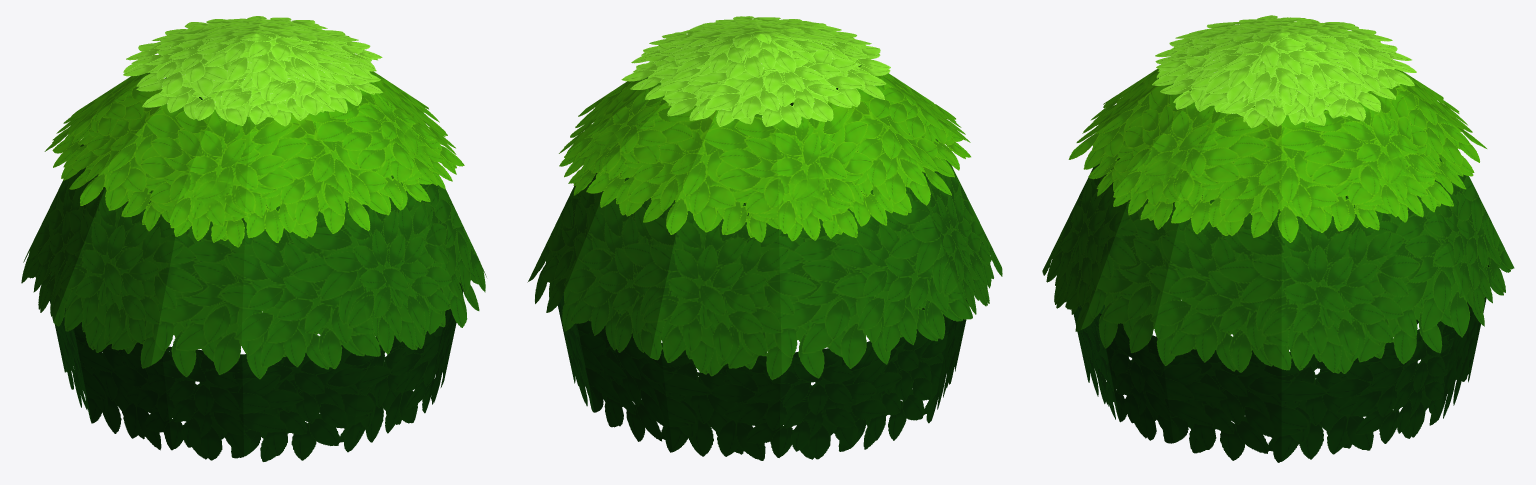
The model's file is Bush.fbx.
The picture shows the model from 3 angles, left to right: view 1: azimuth 30°, elevation 25°; view 2: azimuth 150°, elevation 25°; view 3: azimuth 270°, elevation 25°; orthographic projection.
Visible parts, largest first — view 1: Arbusto; view 2: Arbusto; view 3: Arbusto.
Part boxes in pixels (<box>): Arbusto: <box>21,16,486,461</box>; Arbusto: <box>527,16,1002,460</box>; Arbusto: <box>1042,15,1514,462</box>.
Size of the model in its own units: 0.951 by 0.7763 by 0.951.
